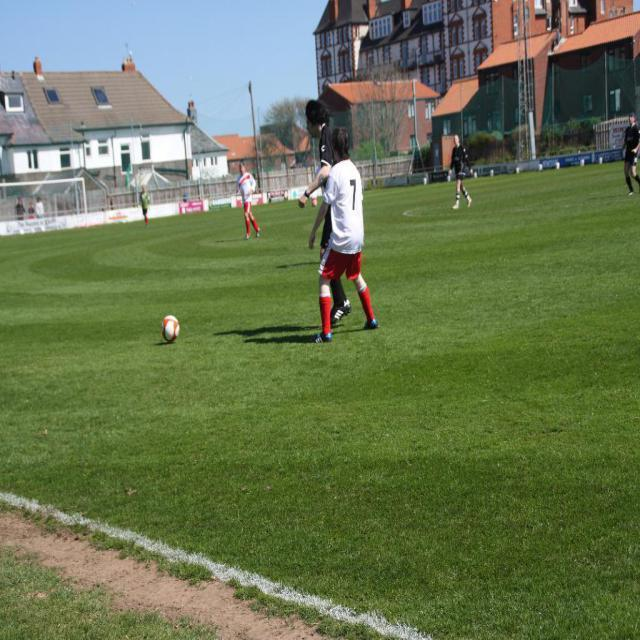football: (148, 297, 195, 353)
